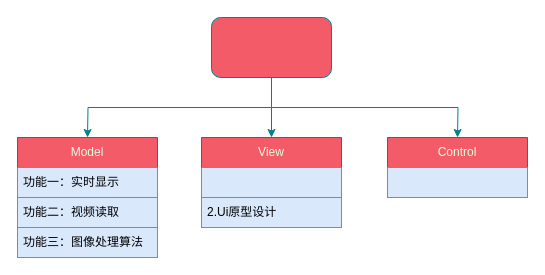
This 545x275 diagram has some shape labels left out. Here are the shapes that lost their labels. From the top down, the centre of each, then its label:
At point (271, 47): "MVC设计模式".
At point (271, 182): "1.Qt Design + QSS".
At point (457, 182): "Qt信号槽机制".
